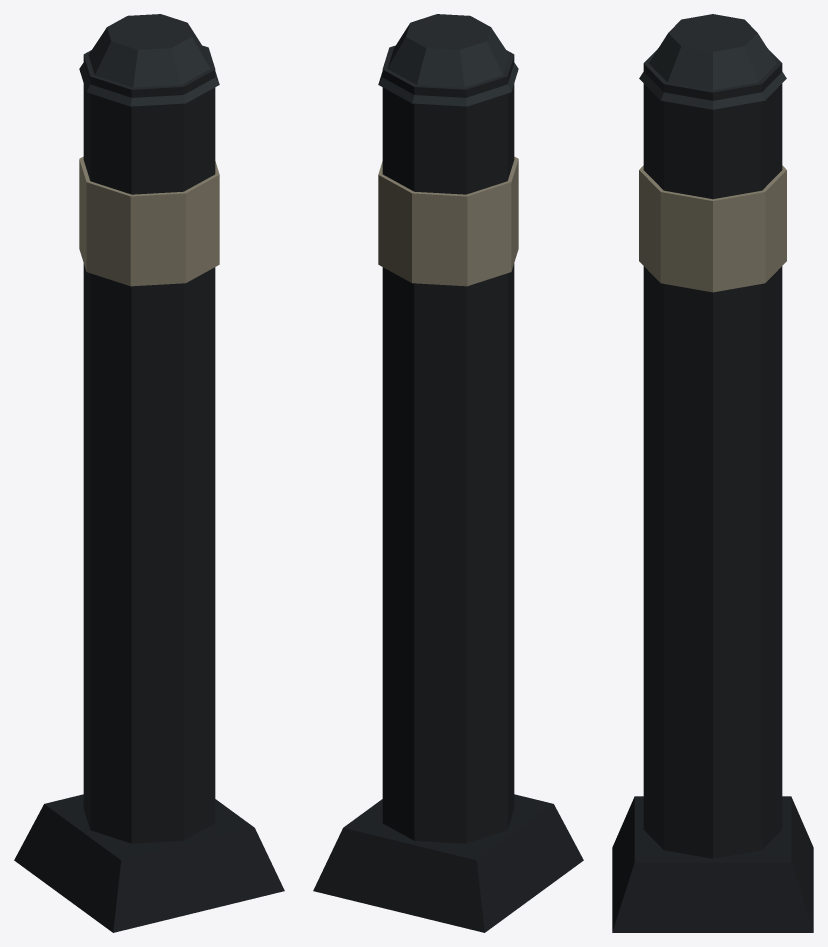
File: lp_street_bollard.glb
3 renders of one model, left to right at view 1: azimuth 30°, elevation 25°; view 2: azimuth 150°, elevation 25°; view 3: azimuth 270°, elevation 25°, orthographic.
Visible parts, largest first — view 1: lp_street_bollard; view 2: lp_street_bollard; view 3: lp_street_bollard.
Part boxes in pixels (x1=…): lp_street_bollard: x1=14, y1=14, x2=284, y2=932; lp_street_bollard: x1=313, y1=14, x2=583, y2=932; lp_street_bollard: x1=612, y1=14, x2=813, y2=932.
Bounding box in the file's own units: 0.18 × 0.845 × 0.18.
1 material, 1 textured.
